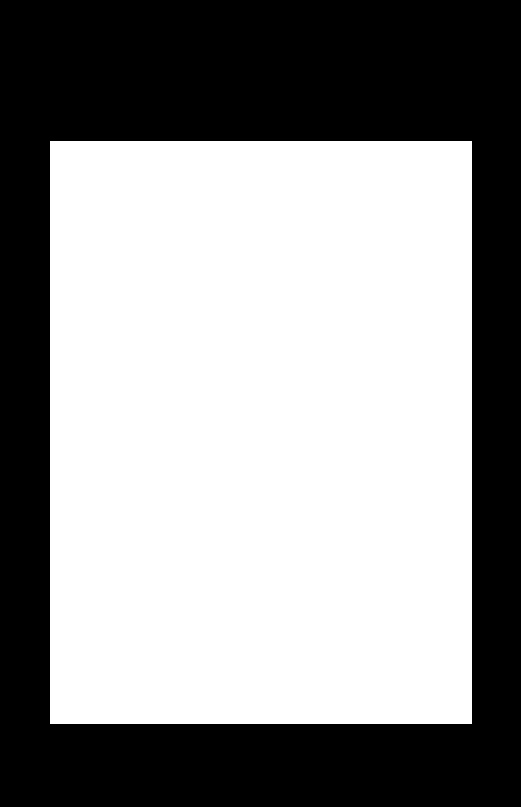table: (50, 141, 471, 723)
